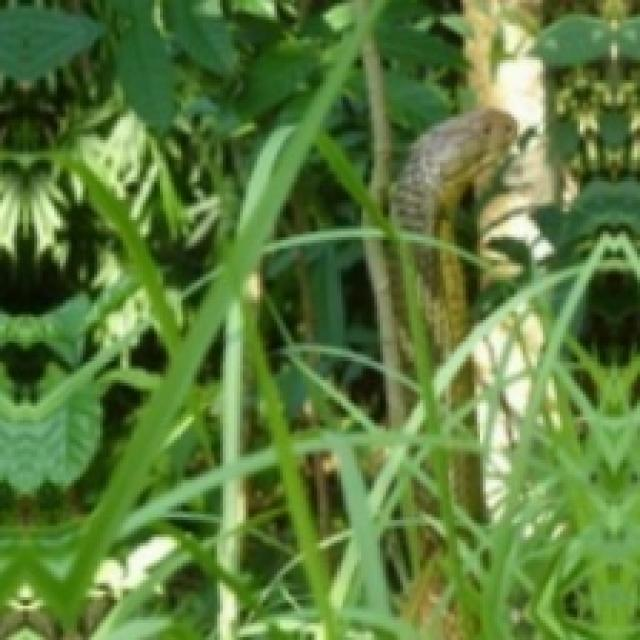king cobra: (391, 109, 514, 249), (414, 246, 477, 354)
